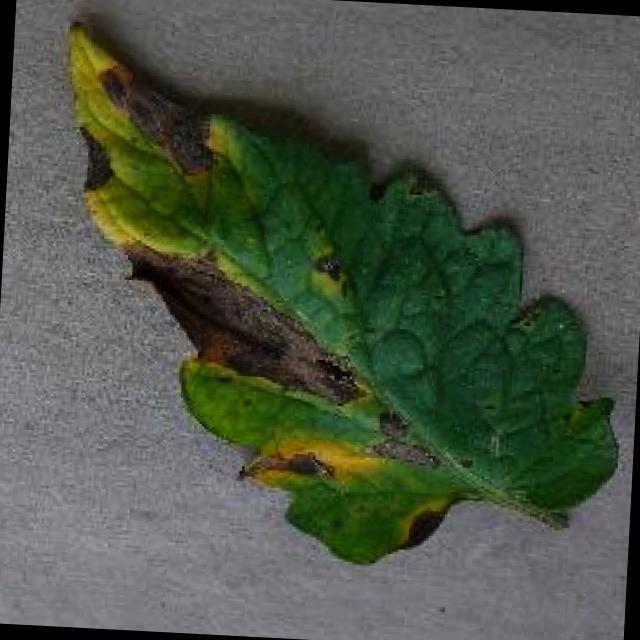Tomato Early blight leaf: (44, 19, 640, 577)
